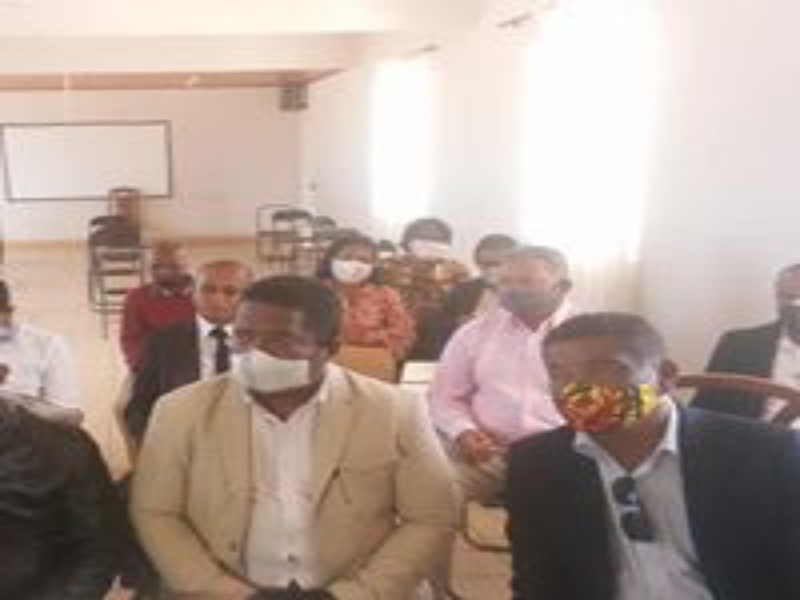ManaoArotava: (543, 311, 668, 450), (234, 283, 339, 412)
